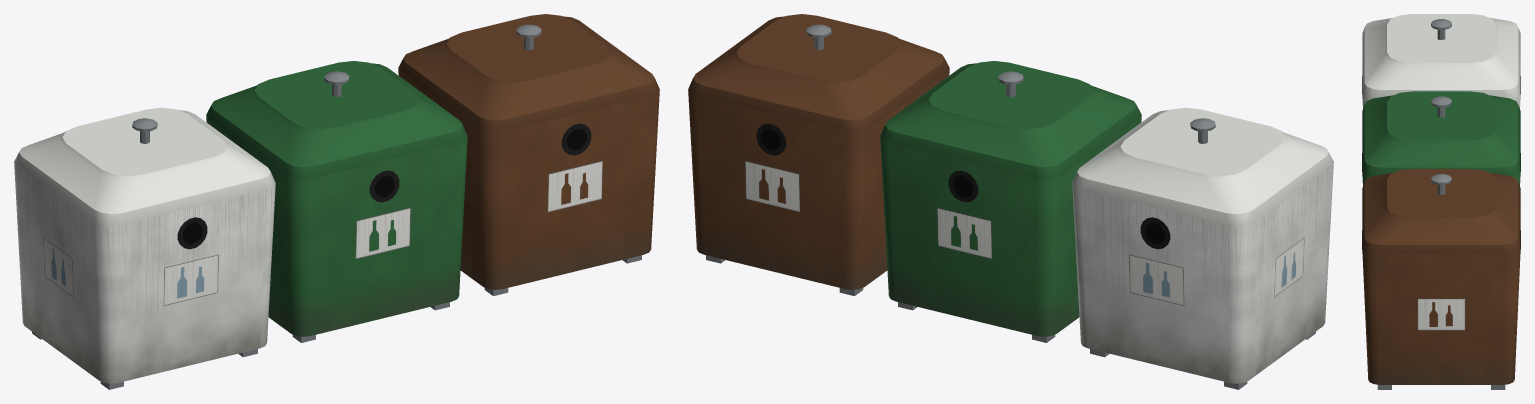
File: glass_containers.glb
3 renders of one model, left to right at view 1: azimuth 30°, elevation 25°; view 2: azimuth 150°, elevation 25°; view 3: azimuth 270°, elevation 25°, orthographic. The views are drawn at different scales.
Visible parts, largest first — view 1: glass_containers; view 2: glass_containers; view 3: glass_containers.
Boxes of the visible parts, box(x1,y1,x2,y2) form: glass_containers: box(14, 14, 659, 389); glass_containers: box(688, 14, 1333, 389); glass_containers: box(1362, 14, 1520, 389).
Size of the model in its own units: 4.54 by 1.72 by 1.34.
9 materials, 3 textured.
